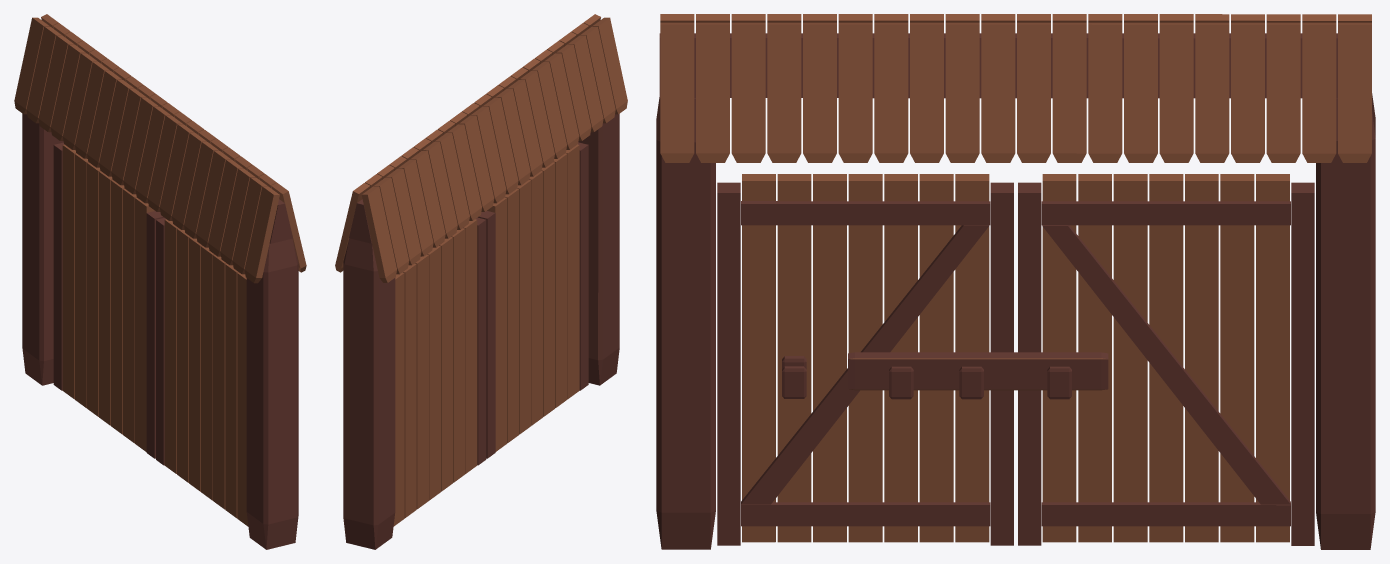
Rendered from gate.fbx.
3 renders of one model, left to right at view 1: azimuth 30°, elevation 25°; view 2: azimuth 150°, elevation 25°; view 3: azimuth 270°, elevation 25°, orthographic. The views are drawn at different scales.
Visible parts, largest first — view 1: roof, gate right, gate left, stand left, stand right; view 2: roof, gate left, gate right, stand right, stand left; view 3: gate right, roof, gate left, stand left, stand right, balk.
Boxes of the visible parts, <box> form: roof: <box>14,14,306,283</box>; gate right: <box>53,142,163,458</box>; gate left: <box>156,217,248,526</box>; stand left: <box>246,238,298,549</box>; stand right: <box>22,113,63,385</box>; roof: <box>335,14,627,282</box>; gate left: <box>478,142,588,458</box>; gate right: <box>393,217,486,526</box>; stand right: <box>343,238,395,549</box>; stand left: <box>578,114,619,385</box>; gate right: <box>1018,174,1314,545</box>; roof: <box>659,14,1371,162</box>; gate left: <box>717,174,1013,545</box>; stand left: <box>656,97,715,549</box>; stand right: <box>1316,93,1375,549</box>; balk: <box>848,352,1108,390</box>.
Bounding box in the file's own units: 293 × 1915 × 2401.
